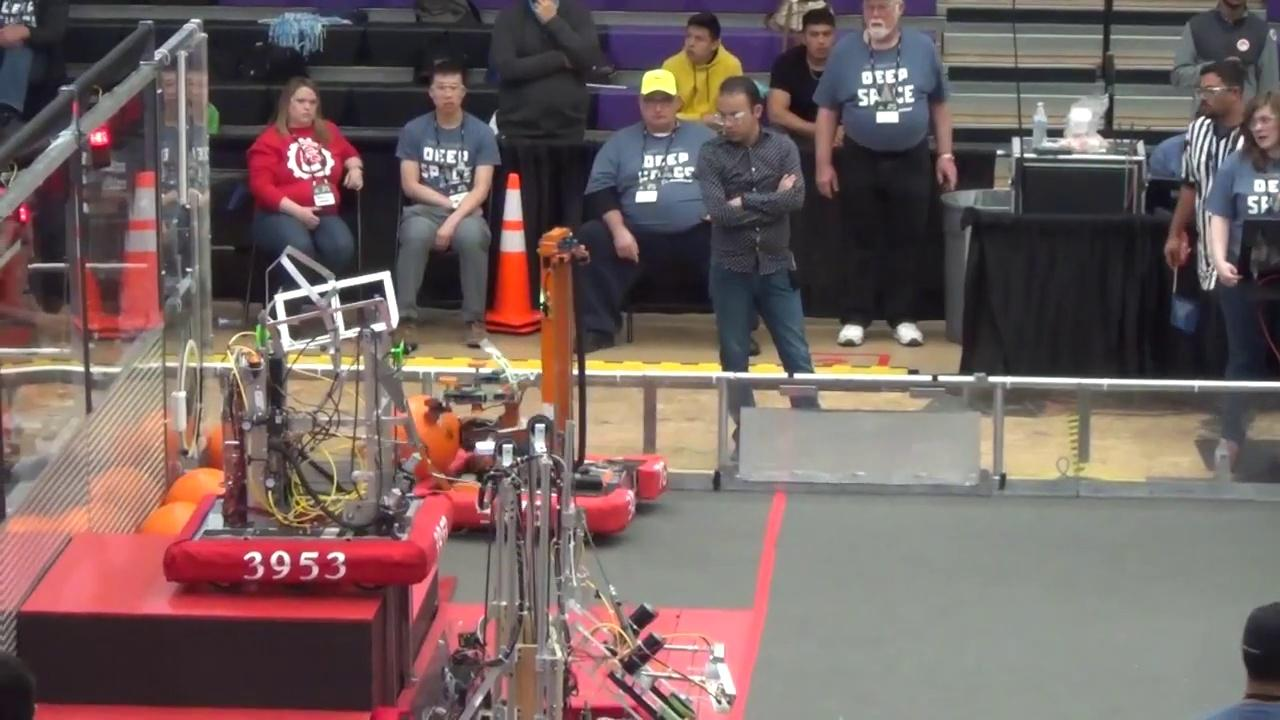robot: (161, 240, 458, 590), (454, 227, 666, 539)
